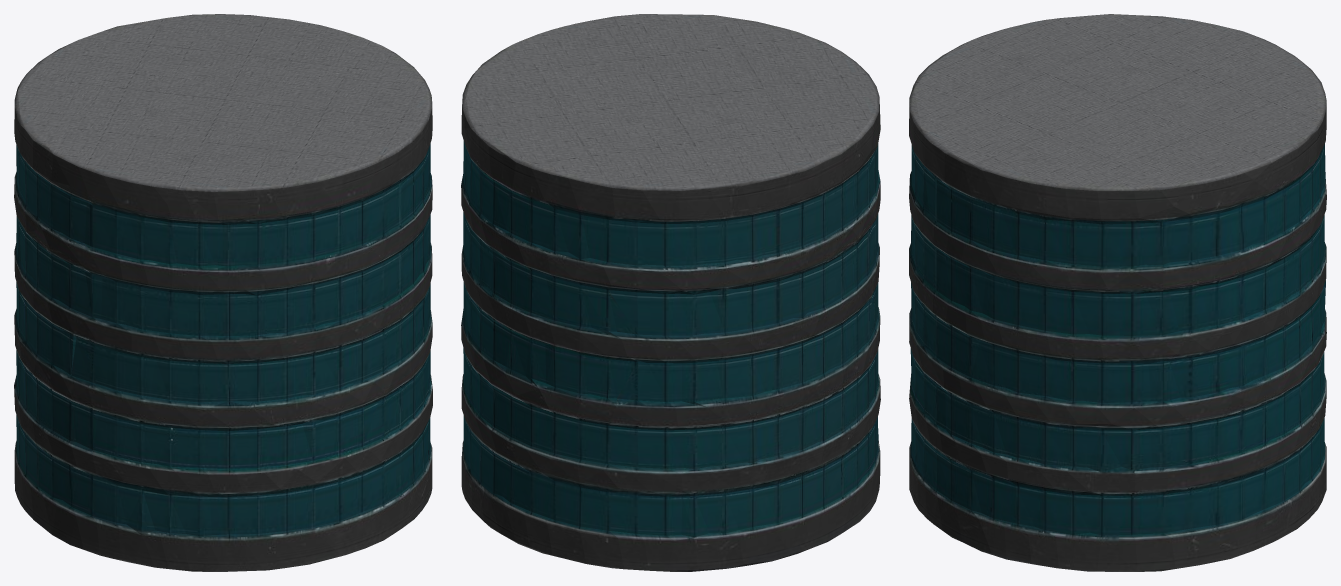
The model's file is kit3-mid.glb.
3 renders of one model, left to right at view 1: azimuth 30°, elevation 25°; view 2: azimuth 150°, elevation 25°; view 3: azimuth 270°, elevation 25°, orthographic.
Visible parts, largest first — view 1: Mesh_0.001; view 2: Mesh_0.001; view 3: Mesh_0.001.
Boxes of the visible parts, left/top/right/bottom form: Mesh_0.001: left=14, top=14, right=432, bottom=571; Mesh_0.001: left=461, top=14, right=880, bottom=571; Mesh_0.001: left=909, top=14, right=1326, bottom=571.
Bounding box in the file's own units: 1 × 1.01 × 0.9995.
1 material, 1 textured.
